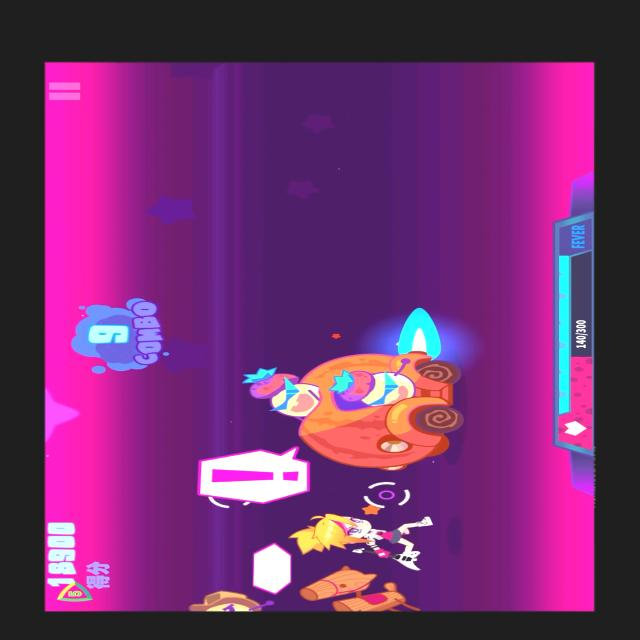cheboss: (244, 348, 468, 469)
